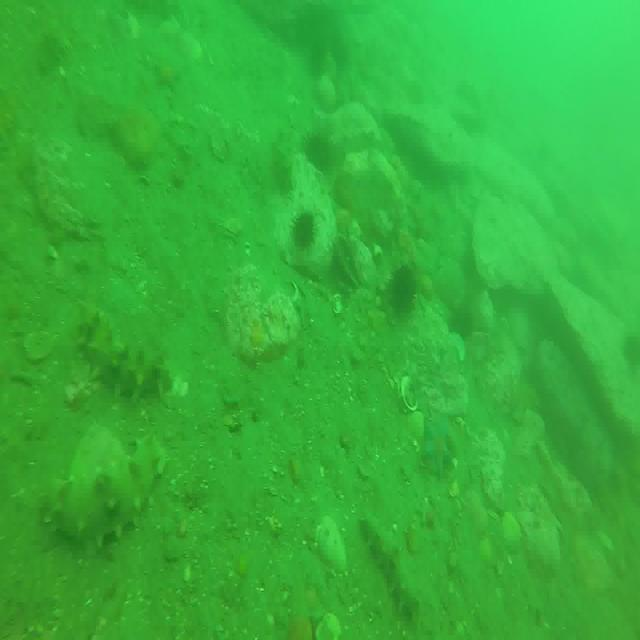echinus: (388, 262, 416, 319), (303, 129, 330, 172), (447, 299, 472, 344), (294, 208, 314, 252)
holothurian: (41, 439, 169, 542), (78, 312, 171, 407), (362, 516, 418, 623)
starfish: (420, 420, 452, 478)
